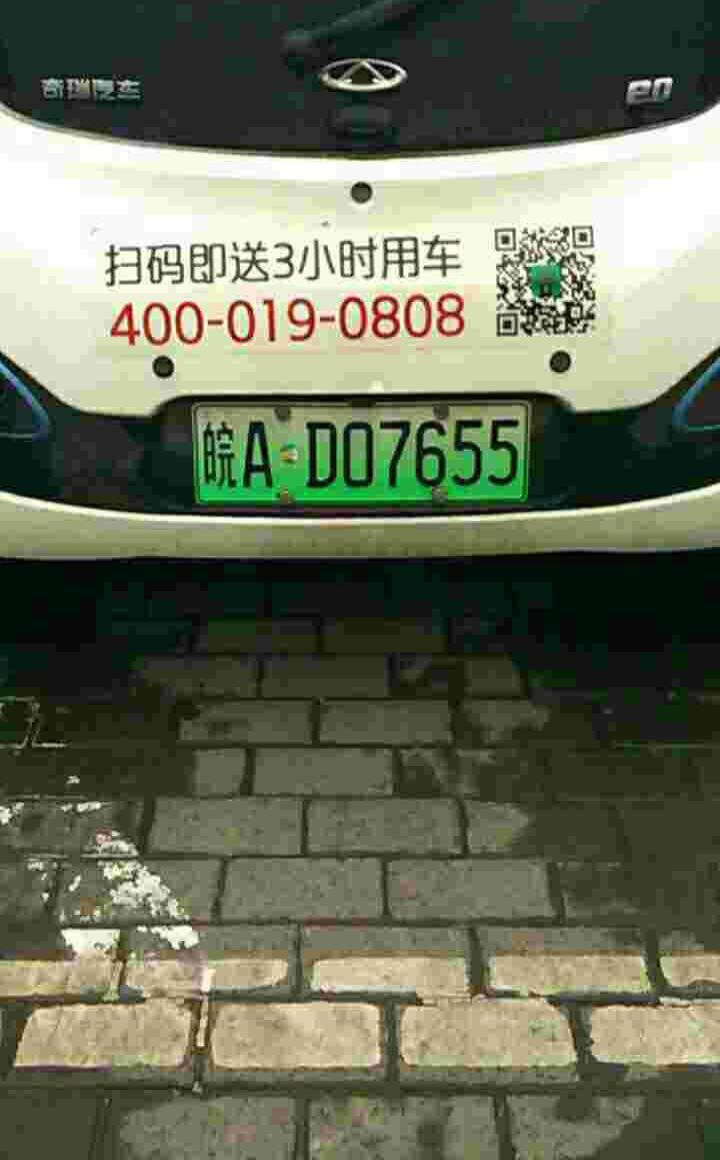car_id: (193, 402, 526, 501)
